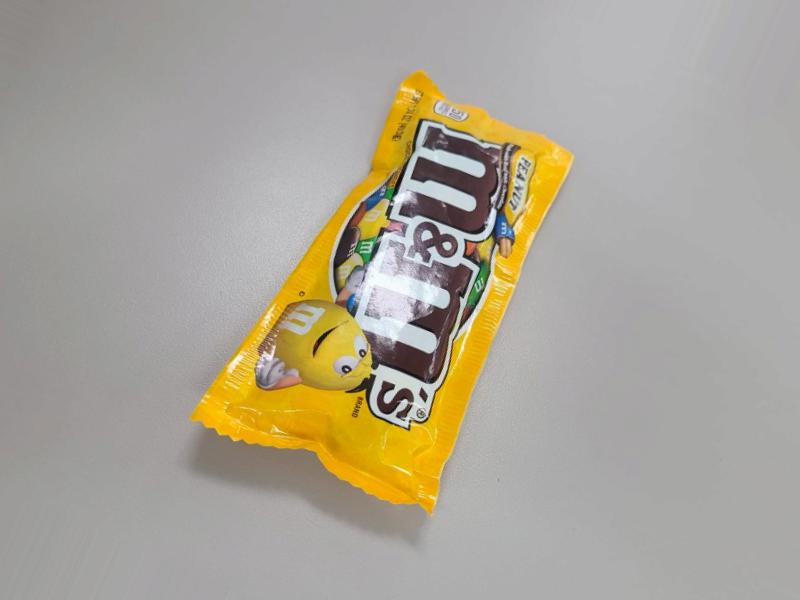m&m: (218, 59, 527, 550)
